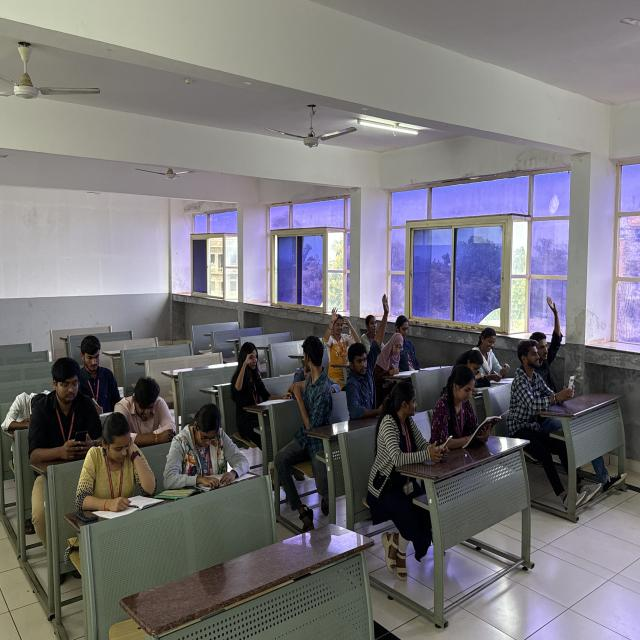Hand Rising: (345, 292, 390, 408), (529, 289, 579, 375), (324, 302, 352, 378)
Reading: (74, 405, 158, 519), (164, 400, 250, 494), (430, 363, 502, 453)
Sleeping: (0, 375, 51, 437)
Using Phone: (383, 373, 453, 529), (31, 360, 104, 463), (514, 349, 578, 444)
Writing: (74, 332, 126, 416), (479, 326, 516, 387), (382, 332, 413, 381)
